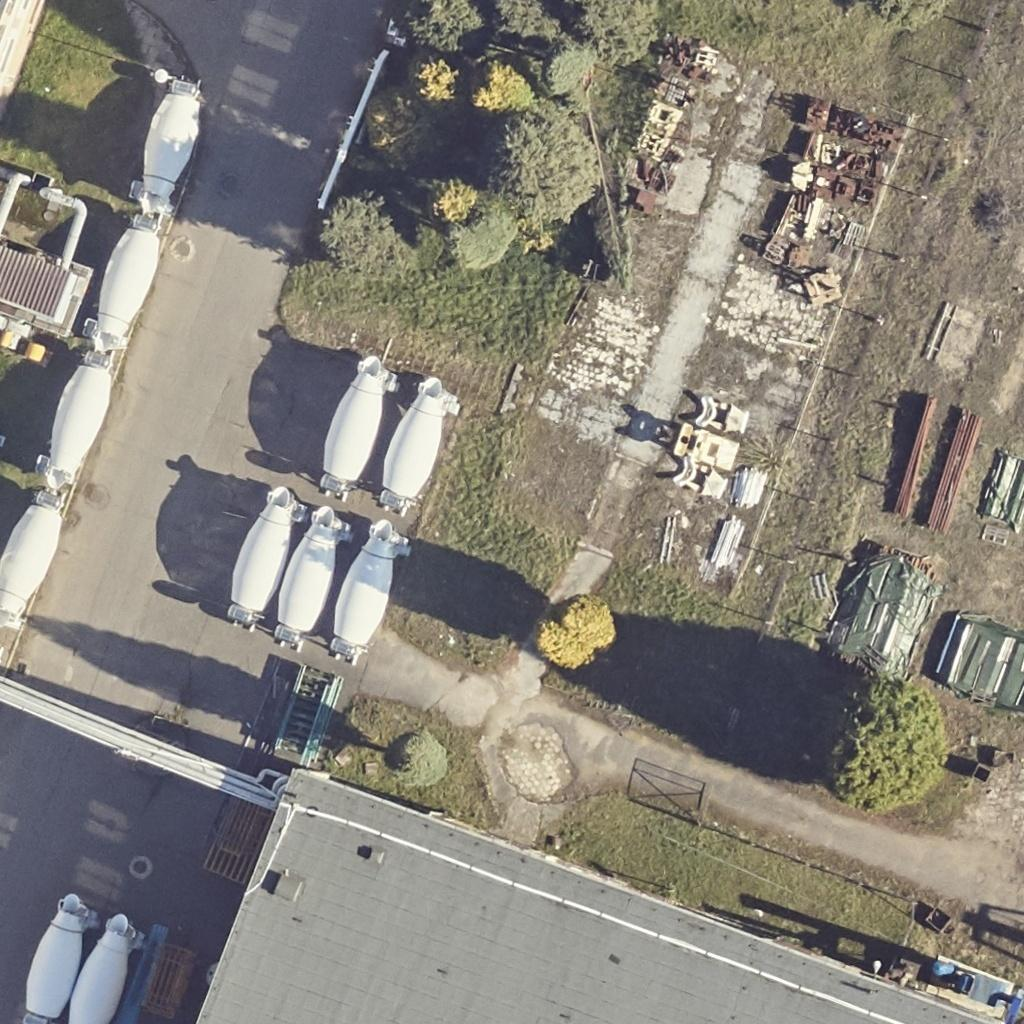betoniarka: (378, 377, 459, 515), (320, 356, 397, 500), (227, 487, 304, 630), (84, 217, 159, 351), (133, 80, 200, 214), (69, 914, 141, 1023), (0, 503, 62, 628)
